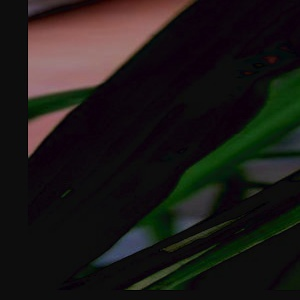Brown_Spot: (184, 43, 294, 123), (135, 132, 200, 199)
